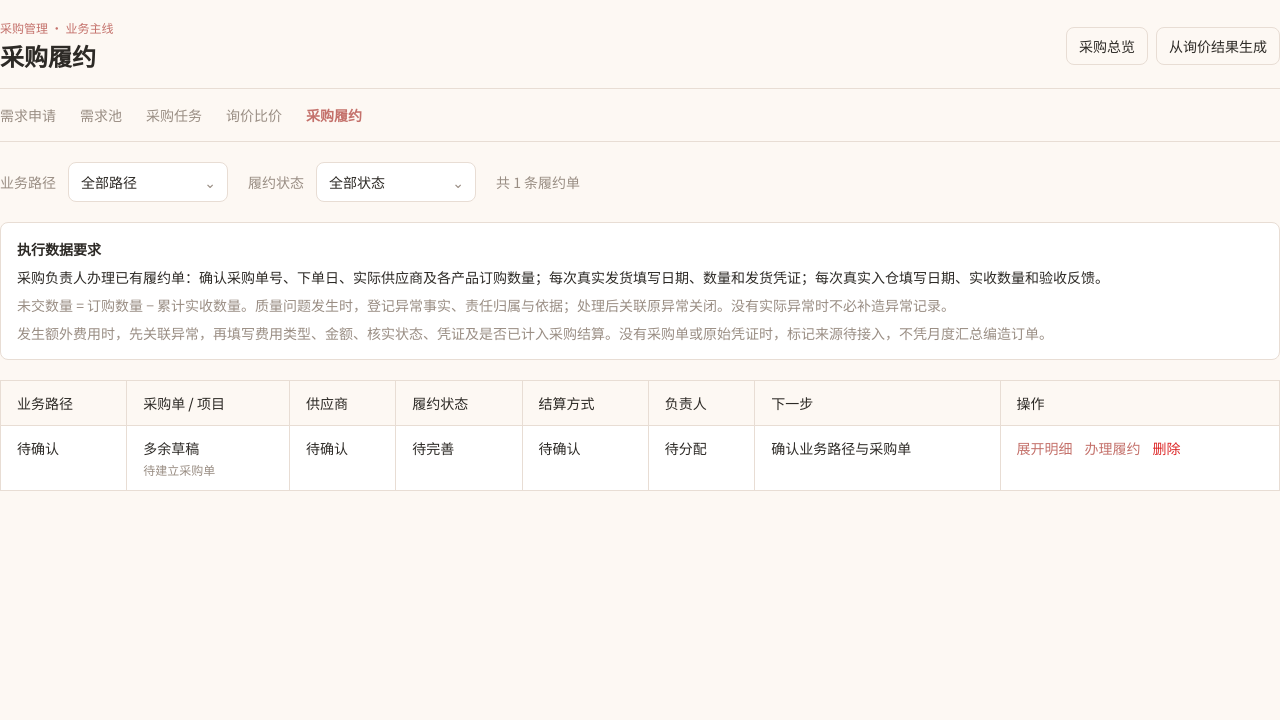
Test case: 履约删除须确认，取消不改数据，确认只删草稿
Expected: the dropdown labelled "业务路径" is shown, [68,162,228,202]
Step 1. Click the button "删除" → (1166, 448), box [1152,438,1180,458]
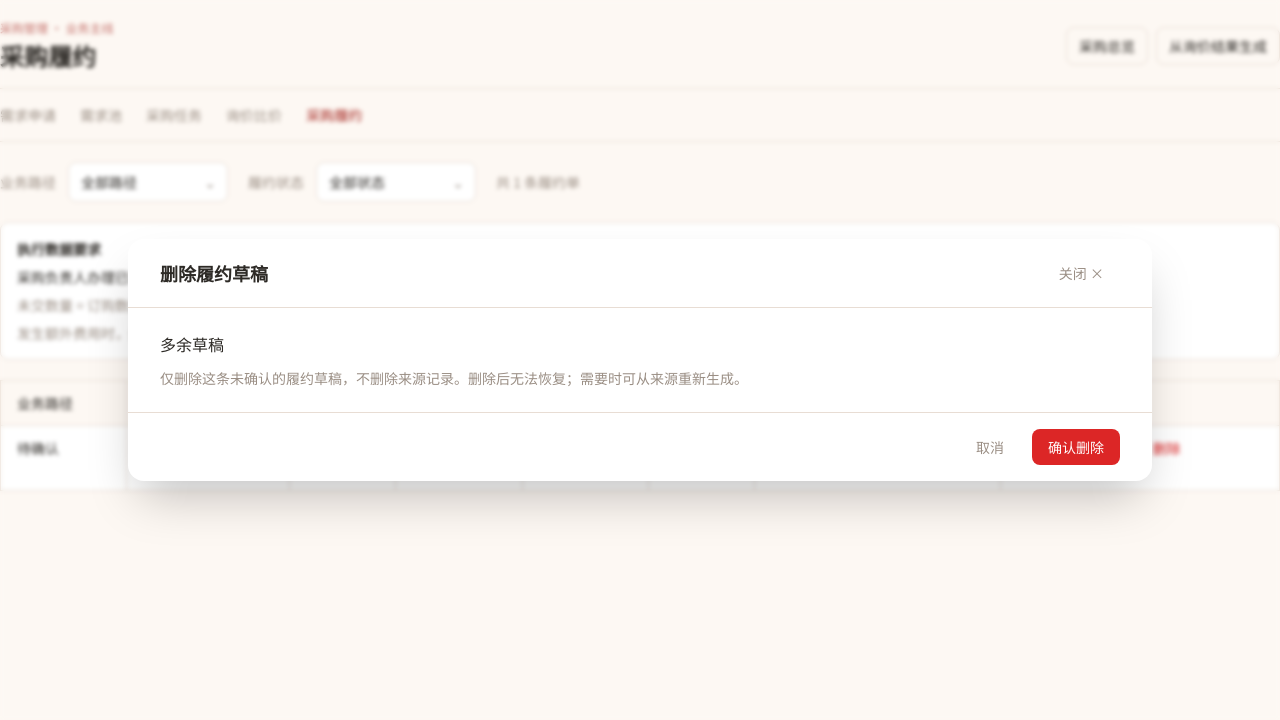
Step 2. Click the button "取消" → (990, 447), box [960,429,1020,465]
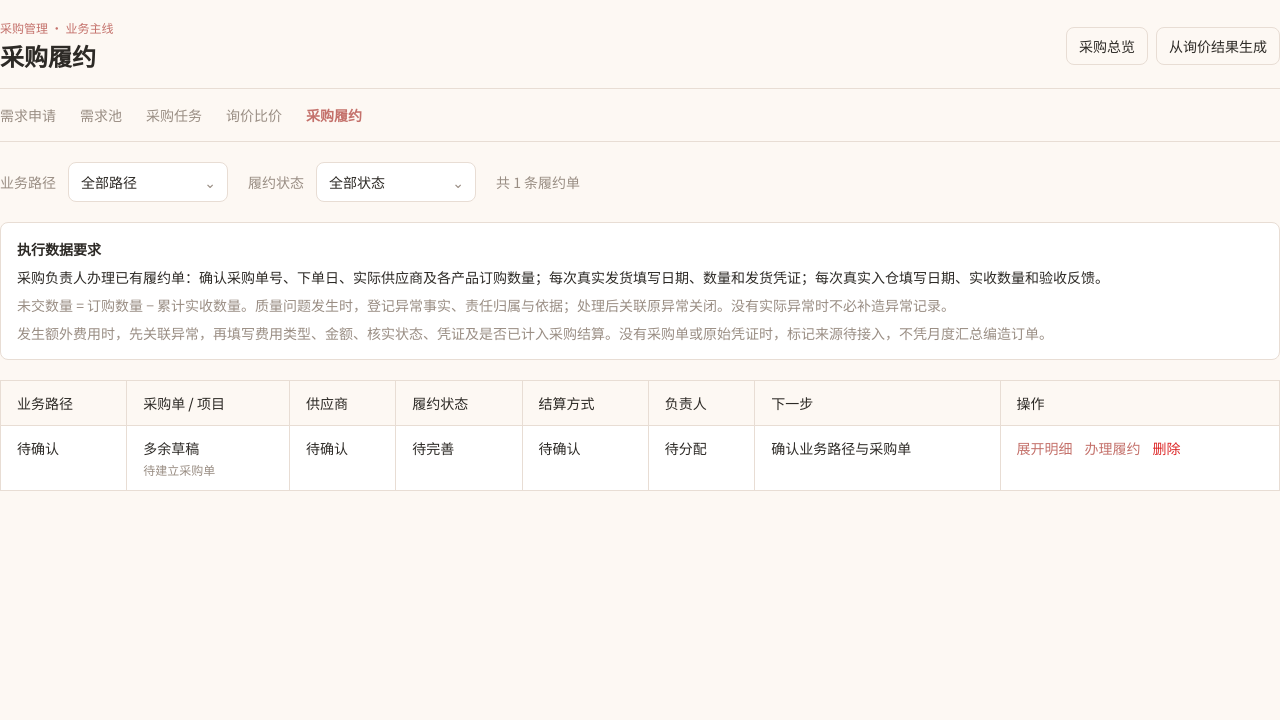
Step 3. Click the button "删除" → (1166, 448), box [1152,438,1180,458]
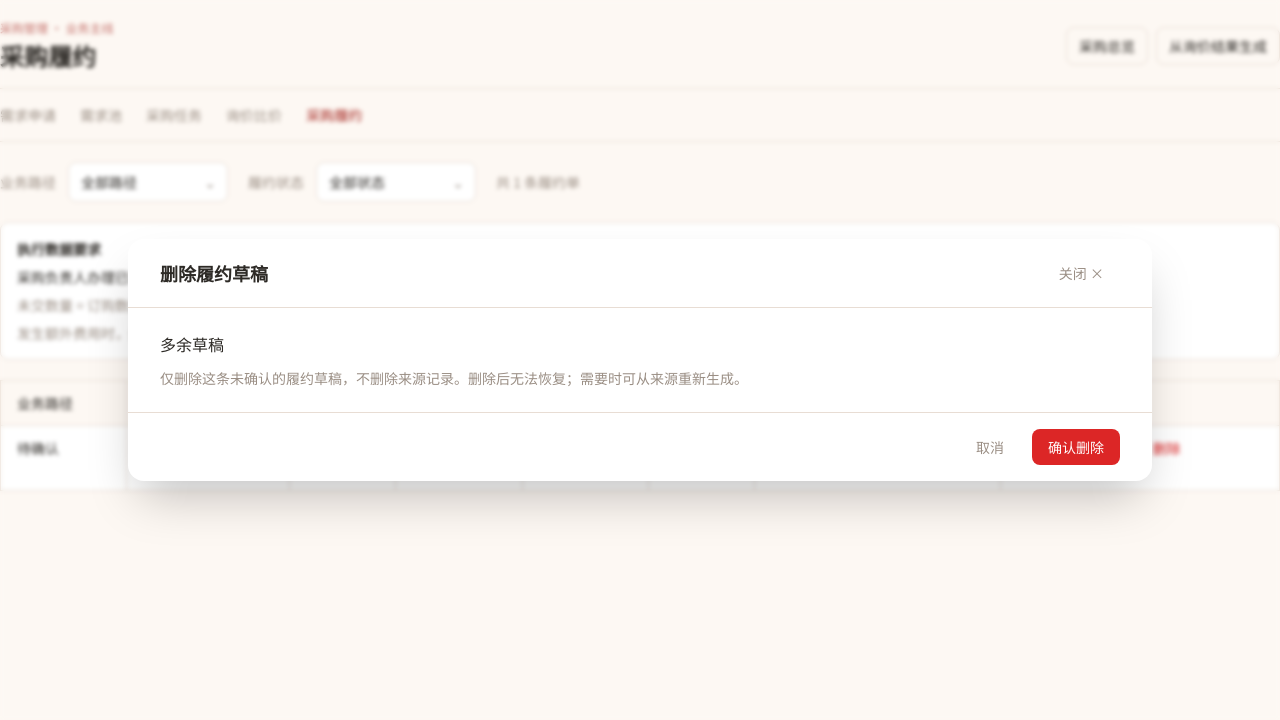
Step 4. Click the button "确认删除" → (1076, 447), box [1032,429,1120,465]
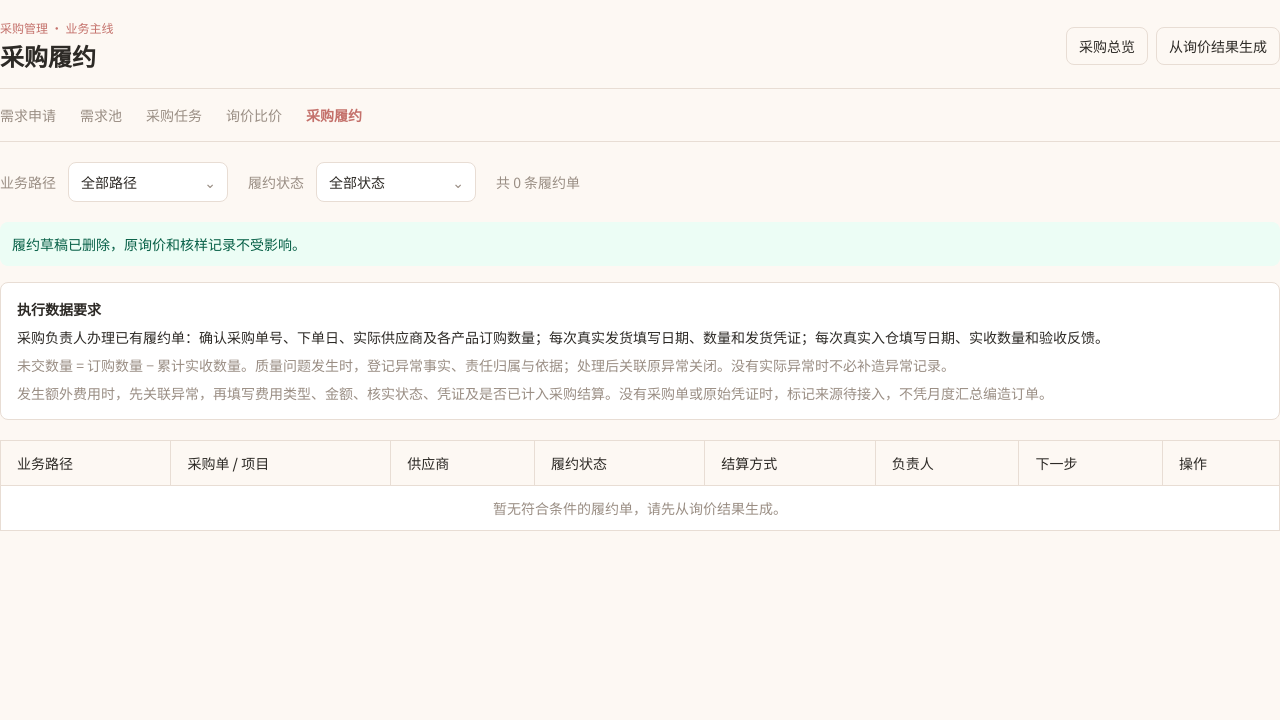
Now the message shows "已删除", box [0,222,1279,266]
